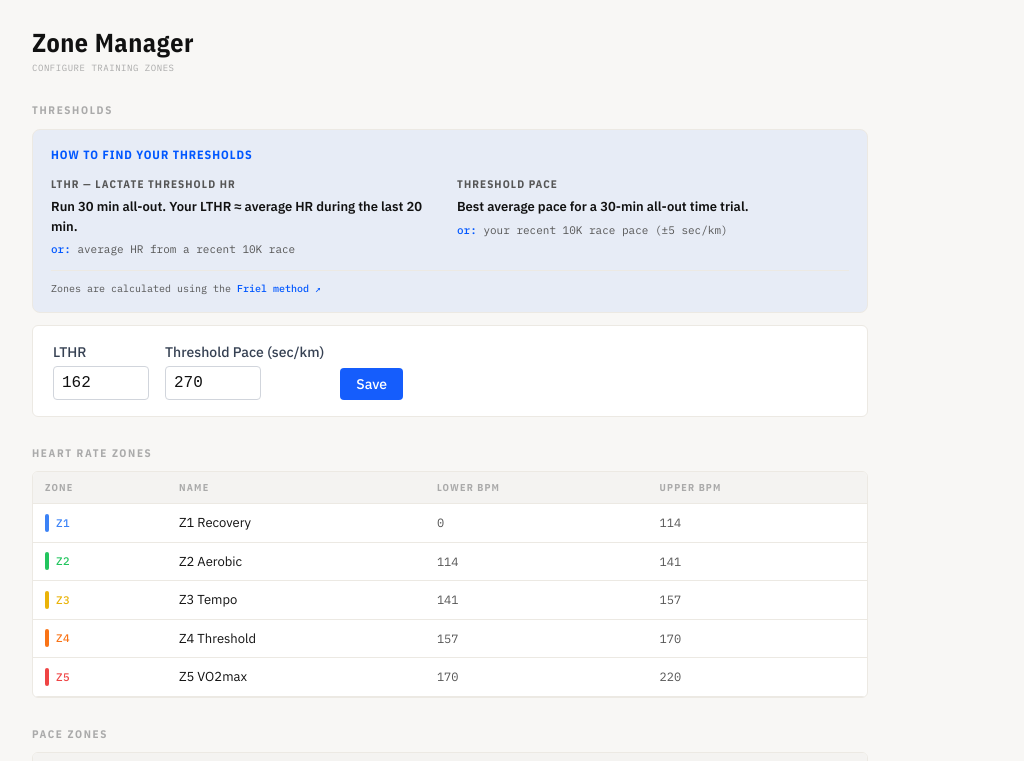
Test: test_success_feedback › save succeeds → success toast shown
Click the button "Save" at (372,384), box [340,368,403,400]
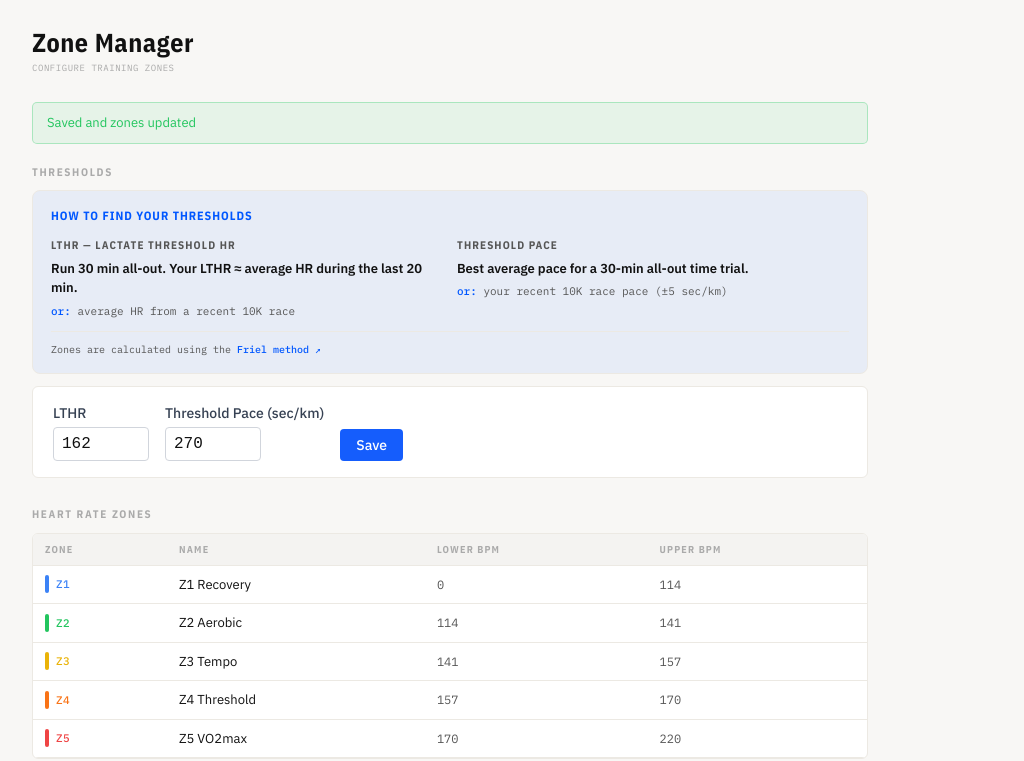
Check: the message shows "Saved", box [47,114,196,131]
